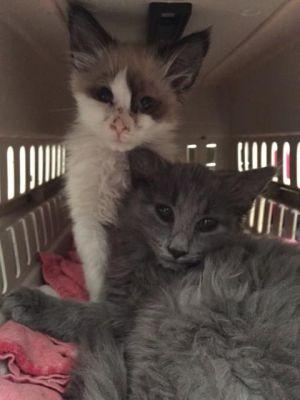ragdoll: (51, 1, 219, 169)
